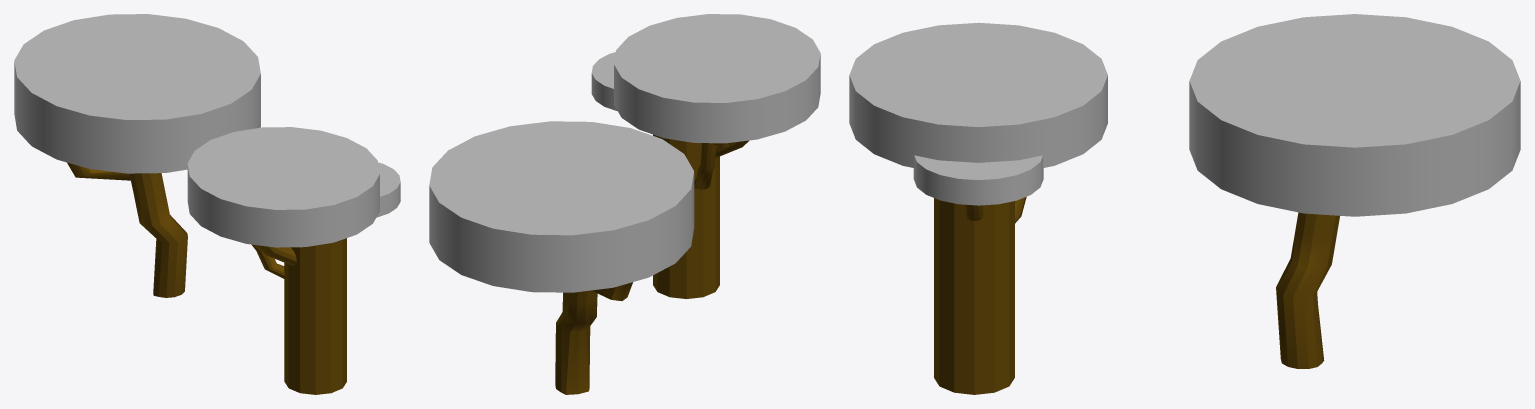
Rendered from Trees.fbx.
3 renders of one model, left to right at view 1: azimuth 30°, elevation 25°; view 2: azimuth 150°, elevation 25°; view 3: azimuth 270°, elevation 25°, orthographic. The views are drawn at different scales.
Visible parts, largest first — view 1: leaves1, leaves, pCylinder1, tree_two, alsoLeaves, pCylinder4, pCylinder6; view 2: leaves1, leaves, pCylinder1, tree_two, alsoLeaves, pCylinder6; view 3: leaves1, leaves, pCylinder1, tree_two, alsoLeaves.
Boxes of the visible parts, x1,y1,x2,y2 form: leaves1: [14, 14, 260, 173]; leaves: [187, 127, 379, 247]; pCylinder1: [284, 238, 346, 394]; tree_two: [67, 162, 187, 297]; alsoLeaves: [376, 162, 400, 217]; pCylinder4: [255, 245, 296, 265]; pCylinder6: [252, 244, 284, 278]; leaves1: [429, 121, 694, 292]; leaves: [614, 14, 820, 143]; pCylinder1: [653, 134, 719, 298]; tree_two: [555, 282, 632, 394]; alsoLeaves: [591, 52, 617, 110]; pCylinder6: [694, 143, 730, 190]; leaves1: [1189, 14, 1520, 216]; leaves: [849, 22, 1107, 167]; pCylinder1: [934, 198, 1014, 394]; tree_two: [1276, 212, 1339, 368]; alsoLeaves: [913, 155, 1043, 205].
Bounding box in the file's own units: 7.11 × 6.88 × 14.74.
